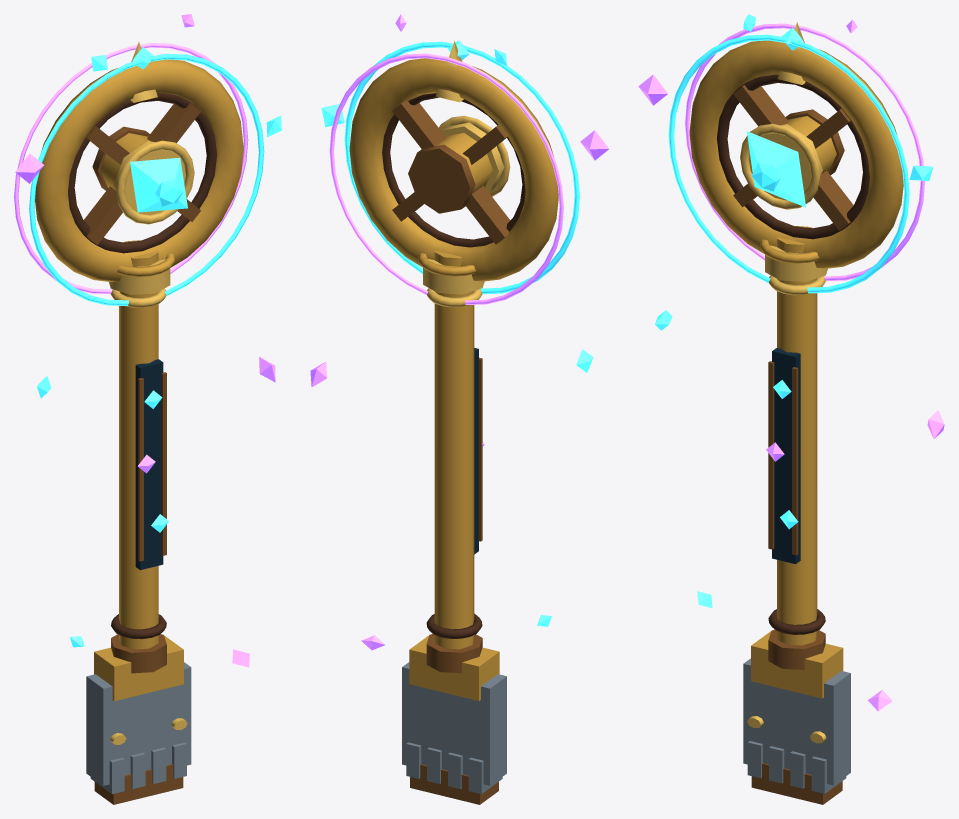
Rendered from asset.glb.
3 views of the same model, side by side, from view 1: azimuth 30°, elevation 25°; view 2: azimuth 150°, elevation 25°; view 3: azimuth 330°, elevation 25° (orthographic). The views are drawn at different scales.
Parts seen in each view (by area): view 1: EnchantedBow, KeyShaft, KeyBlade, FrontMagicRing, RunicInset, InnerBowRim, UpperBladeJaw, RearMagicRing, ArcaneCrystal, CrystalSocket, LowerBladeJaw, LowerCollar (+17 smaller); view 2: EnchantedBow, KeyShaft, KeyBlade, RearMagicRing, FrontMagicRing, RearHubCollar, UpperBladeJaw, InnerBowRim, BowSpoke_3, BowSpoke_1, LowerBladeJaw, LowerCollar (+11 smaller); view 3: EnchantedBow, KeyShaft, KeyBlade, FrontMagicRing, RunicInset, InnerBowRim, UpperBladeJaw, RearMagicRing, ArcaneCrystal, CrystalSocket, LowerBladeJaw, LowerCollar (+15 smaller).
Boxes of the visible parts, left/top/right/bottom form: EnchantedBow: left=35, top=59, right=243, bottom=281; KeyShaft: left=119, top=251, right=158, bottom=649; KeyBlade: left=86, top=662, right=191, bottom=785; FrontMagicRing: left=29, top=53, right=264, bottom=305; RunicInset: left=135, top=359, right=163, bottom=570; InnerBowRim: left=68, top=92, right=217, bottom=253; UpperBladeJaw: left=94, top=635, right=183, bottom=700; RearMagicRing: left=14, top=43, right=248, bottom=294; ArcaneCrystal: left=130, top=157, right=187, bottom=212; CrystalSocket: left=116, top=140, right=194, bottom=224; LowerBladeJaw: left=94, top=764, right=183, bottom=804; LowerCollar: left=111, top=634, right=166, bottom=673; EnchantedBow: left=349, top=58, right=558, bottom=281; KeyShaft: left=434, top=250, right=474, bottom=649; KeyBlade: left=402, top=662, right=506, bottom=785; RearMagicRing: left=329, top=53, right=563, bottom=304; FrontMagicRing: left=344, top=41, right=579, bottom=294; RearHubCollar: left=408, top=144, right=475, bottom=213; UpperBladeJaw: left=409, top=635, right=499, bottom=700; InnerBowRim: left=382, top=93, right=525, bottom=247; BowSpoke_3: left=466, top=186, right=510, bottom=244; BowSpoke_1: left=392, top=101, right=446, bottom=148; LowerBladeJaw: left=410, top=764, right=498, bottom=804; LowerCollar: left=426, top=634, right=482, bottom=673; EnchantedBow: left=689, top=40, right=903, bottom=268; KeyShaft: left=777, top=237, right=817, bottom=645; KeyBlade: left=743, top=658, right=850, bottom=785; FrontMagicRing: left=668, top=34, right=909, bottom=293; RunicInset: left=772, top=348, right=800, bottom=564; InnerBowRim: left=716, top=74, right=869, bottom=239; UpperBladeJaw: left=751, top=631, right=843, bottom=698; RearMagicRing: left=685, top=23, right=924, bottom=281; ArcaneCrystal: left=746, top=131, right=805, bottom=207; CrystalSocket: left=740, top=123, right=819, bottom=209; LowerBladeJaw: left=751, top=763, right=842, bottom=804; LowerCollar: left=768, top=629, right=825, bottom=669.
Size of the model in its own units: 2.29 by 5.96 by 0.7399.
